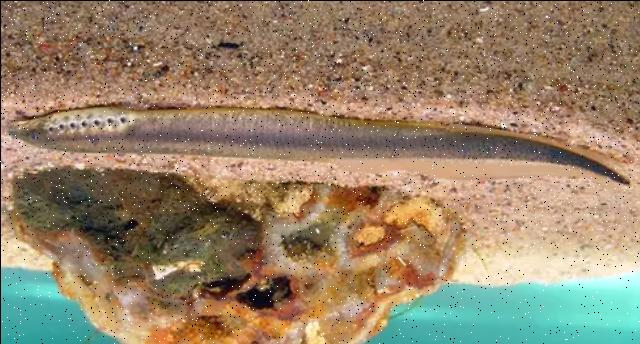Sirip Ekor: (540, 113, 640, 208)
